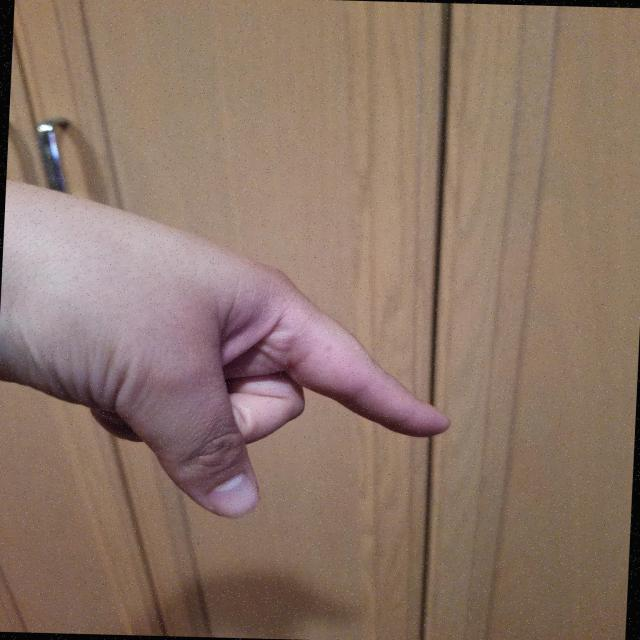Q: (0, 175, 470, 532)
